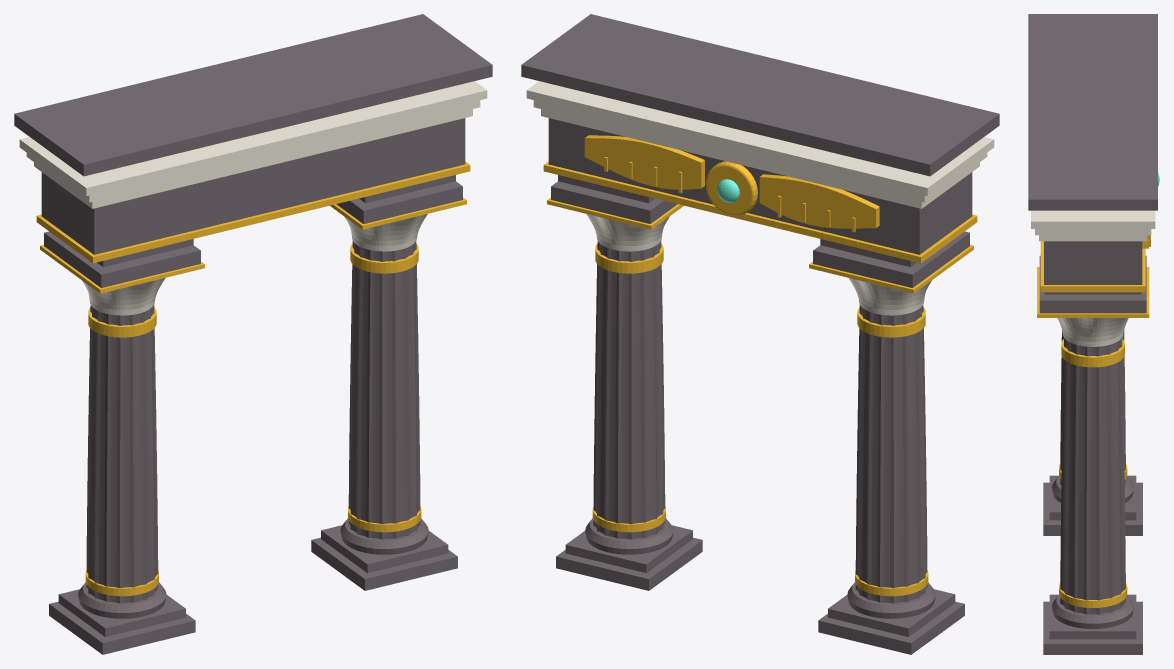
File: SandArch.obj
The picture shows the model from 3 angles, left to right: view 1: azimuth 30°, elevation 25°; view 2: azimuth 150°, elevation 25°; view 3: azimuth 270°, elevation 25°; orthographic projection. The views are drawn at different scales.
Parts seen in each view (by area): view 1: Stone, Paint, Gold; view 2: Stone, Gold, Paint; view 3: Stone, Paint, Gold.
Part boxes in pixels (x1,y1,x2,y2): Stone: (14,14,492,654); Paint: (19,81,487,315); Gold: (36,161,470,596); Stone: (521,14,999,654); Gold: (543,135,977,596); Paint: (526,81,994,315); Stone: (1028,14,1157,654); Paint: (1031,210,1155,346); Gold: (1037,235,1150,607).
Size of the model in its own units: 28.07 by 32.97 by 8.39.
